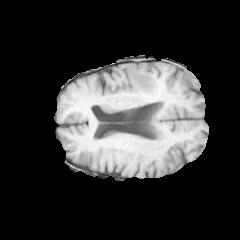glioma: (104, 63, 162, 105)
